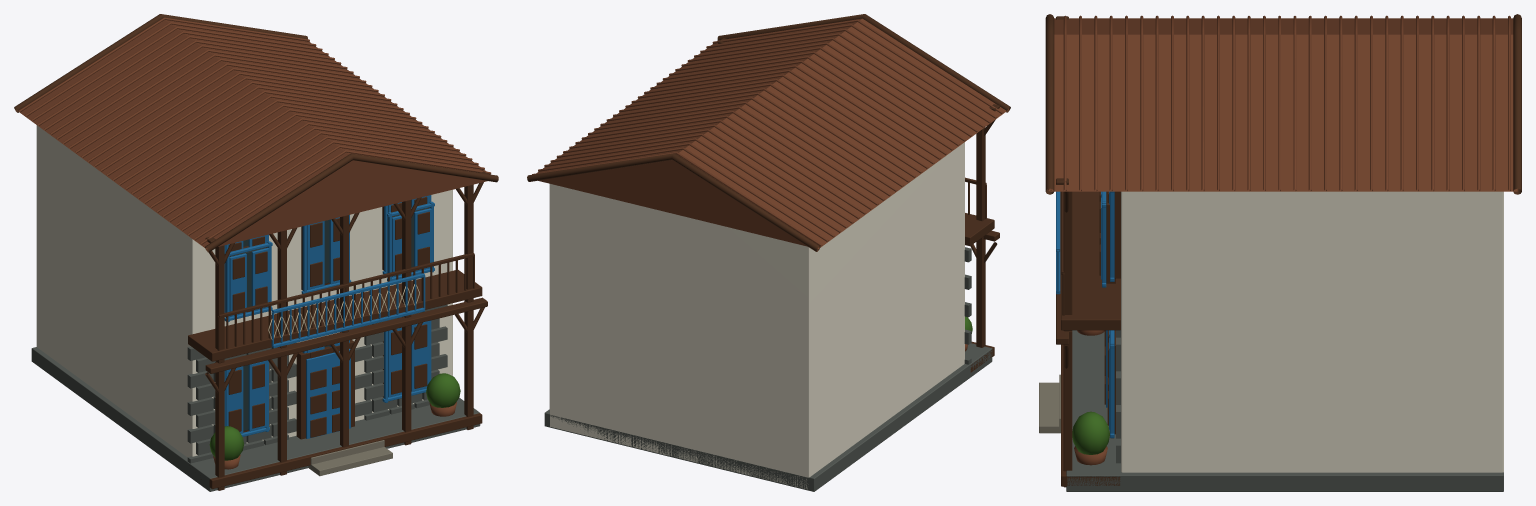
The model's file is basalt-blue-house.glb.
3 renders of one model, left to right at view 1: azimuth 30°, elevation 25°; view 2: azimuth 150°, elevation 25°; view 3: azimuth 270°, elevation 25°, orthographic. The views are drawn at different scales.
Parts seen in each view (by area): view 1: Surface_Roof_tiles, Surface_Lime_plaster, Surface_Timber, Surface_Basalt, Surface_Painted_joinery, Surface_Foliage, Surface_Stone_paving, Surface_Recessed_glazing, Surface_Trim; view 2: Surface_Lime_plaster, Surface_Roof_tiles, Surface_Timber, Surface_Basalt; view 3: Surface_Lime_plaster, Surface_Roof_tiles, Surface_Timber, Surface_Basalt, Surface_Painted_joinery, Surface_Foliage, Surface_Stone_paving.
Part boxes in pixels (bbox=[...]): Surface_Roof_tiles: bbox=[16, 17, 491, 469]; Surface_Lime_plaster: bbox=[36, 125, 452, 457]; Surface_Timber: bbox=[14, 14, 498, 490]; Surface_Basalt: bbox=[31, 304, 480, 491]; Surface_Painted_joinery: bbox=[224, 195, 434, 438]; Surface_Foliage: bbox=[209, 373, 460, 460]; Surface_Stone_paving: bbox=[308, 440, 392, 476]; Surface_Recessed_glazing: bbox=[230, 208, 427, 430]; Surface_Trim: bbox=[268, 284, 419, 339]; Surface_Lime_plaster: bbox=[549, 142, 964, 489]; Surface_Roof_tiles: bbox=[532, 18, 1009, 351]; Surface_Timber: bbox=[527, 14, 1010, 372]; Surface_Basalt: bbox=[544, 247, 992, 491]; Surface_Lime_plaster: bbox=[1121, 191, 1503, 472]; Surface_Roof_tiles: bbox=[1048, 15, 1517, 465]; Surface_Timber: bbox=[1045, 14, 1521, 487]; Surface_Basalt: bbox=[1066, 330, 1503, 491]; Surface_Painted_joinery: bbox=[1056, 191, 1114, 438]; Surface_Foliage: bbox=[1072, 411, 1109, 454]; Surface_Stone_paving: bbox=[1039, 374, 1060, 433].
Bounding box in the file's own units: 7.56 × 7.68 × 8.83.
